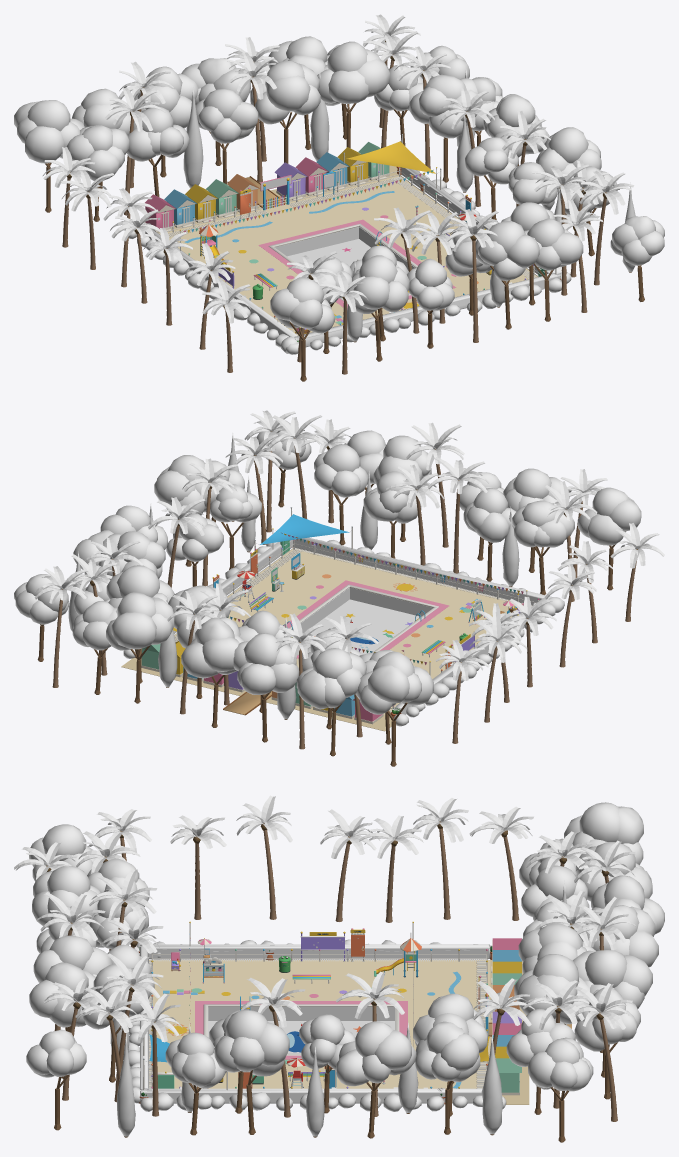
The model's file is kids.glb.
The picture shows the model from 3 angles, top to bottom: view 1: azimuth 30°, elevation 25°; view 2: azimuth 150°, elevation 25°; view 3: azimuth 270°, elevation 25°; orthographic projection. The views are drawn at different scales.
Parts seen in each view (by area): view 1: S_tile_canopy, S_cut, S_tile_rubber, S_matte, S_satin, S_tile_hedge, S_tile_conifer, S_satin_n, S_tile_boards, S_tile_glass_mosaic, S_gloss; view 2: S_tile_canopy, S_cut, S_matte, S_tile_rubber, S_tile_hedge, S_satin, S_tile_conifer, S_tile_glass_mosaic, S_tile_boards, S_satin_n, S_matte_n, S_gloss; view 3: S_tile_canopy, S_cut, S_tile_rubber, S_tile_hedge, S_matte, S_satin, S_tile_conifer, S_tile_glass_mosaic, S_satin_n, S_gloss, S_matte_n, S_tile_mosaic_band (+1 smaller).
Boxes of the visible parts, x1,y1,x2,y2 form: S_tile_canopy: [14, 36, 664, 333]; S_cut: [43, 14, 634, 338]; S_tile_rubber: [160, 176, 537, 335]; S_matte: [45, 42, 644, 381]; S_satin: [70, 41, 603, 333]; S_tile_hedge: [124, 167, 571, 354]; S_tile_conifer: [183, 68, 635, 341]; S_satin_n: [161, 163, 536, 292]; S_tile_boards: [145, 159, 389, 228]; S_tile_glass_mosaic: [275, 226, 414, 293]; S_gloss: [164, 164, 417, 303]; S_tile_canopy: [14, 420, 641, 714]; S_cut: [34, 410, 664, 711]; S_matte: [37, 431, 637, 766]; S_tile_rubber: [174, 549, 531, 714]; S_tile_hedge: [123, 537, 564, 726]; S_satin: [91, 446, 570, 724]; S_tile_conifer: [68, 433, 519, 719]; S_tile_glass_mosaic: [290, 587, 433, 654]; S_tile_boards: [141, 649, 382, 721]; S_satin_n: [174, 530, 531, 712]; S_matte_n: [121, 658, 391, 731]; S_gloss: [274, 581, 509, 655]; S_tile_canopy: [26, 802, 664, 1091]; S_cut: [14, 795, 635, 1091]; S_tile_rubber: [149, 960, 490, 1088]; S_tile_hedge: [128, 939, 506, 1111]; S_matte: [46, 821, 617, 1142]; S_satin: [48, 825, 604, 1095]; S_tile_conifer: [110, 880, 566, 1136]; S_tile_glass_mosaic: [208, 1007, 394, 1053]; S_satin_n: [149, 924, 494, 1088]; S_gloss: [203, 957, 403, 1055]; S_matte_n: [490, 959, 529, 1104]; S_tile_mosaic_band: [208, 1007, 395, 1036].
Size of what is drawn, in the model's own units: 53.62 by 15.16 by 57.76.
